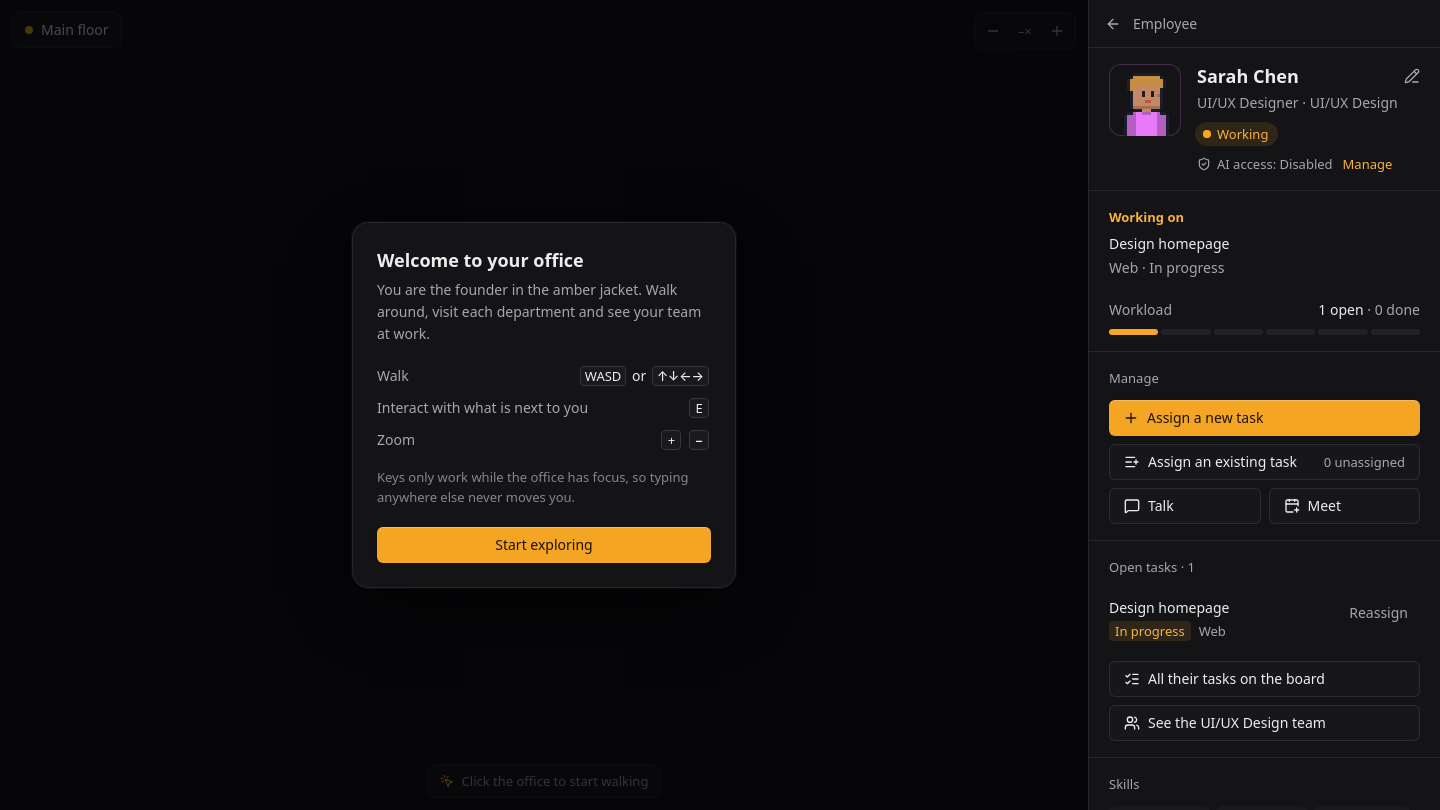
Test case: office page › opens an employee profile with real actions, and goes back to the overview
Expected: the heading "Sarah Chen" is shown, x1=1197 y1=60 x2=1299 y2=89
Expected: the text "UI/UX Designer · UI/UX Design" is shown, x1=1197 y1=92 x2=1420 y2=114
Click the button named "Back to overview". click: click(1113, 24)
box: x1=1097 y1=8 x2=1129 y2=40
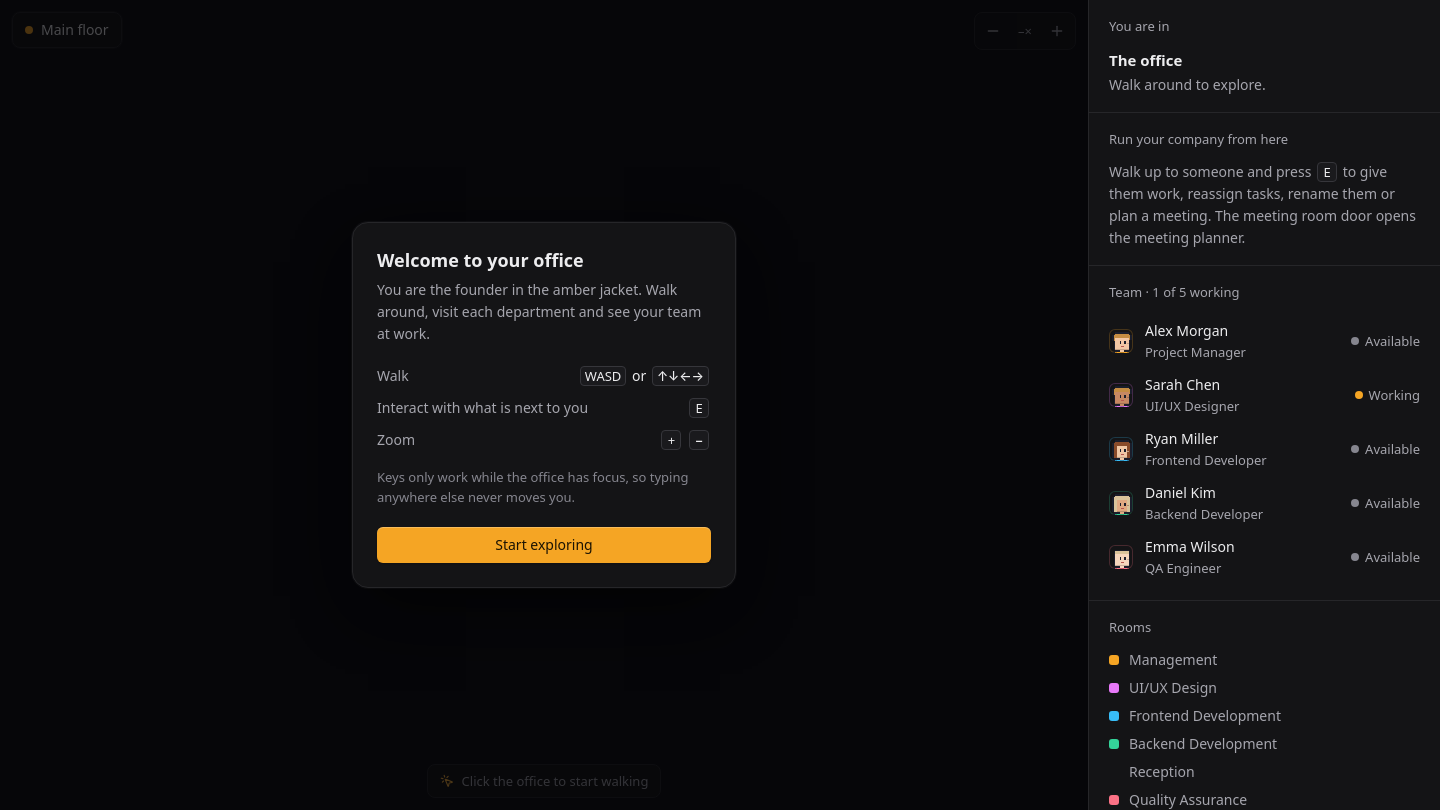
Expected: the heading "You are in" is shown, x1=1109 y1=17 x2=1170 y2=35
